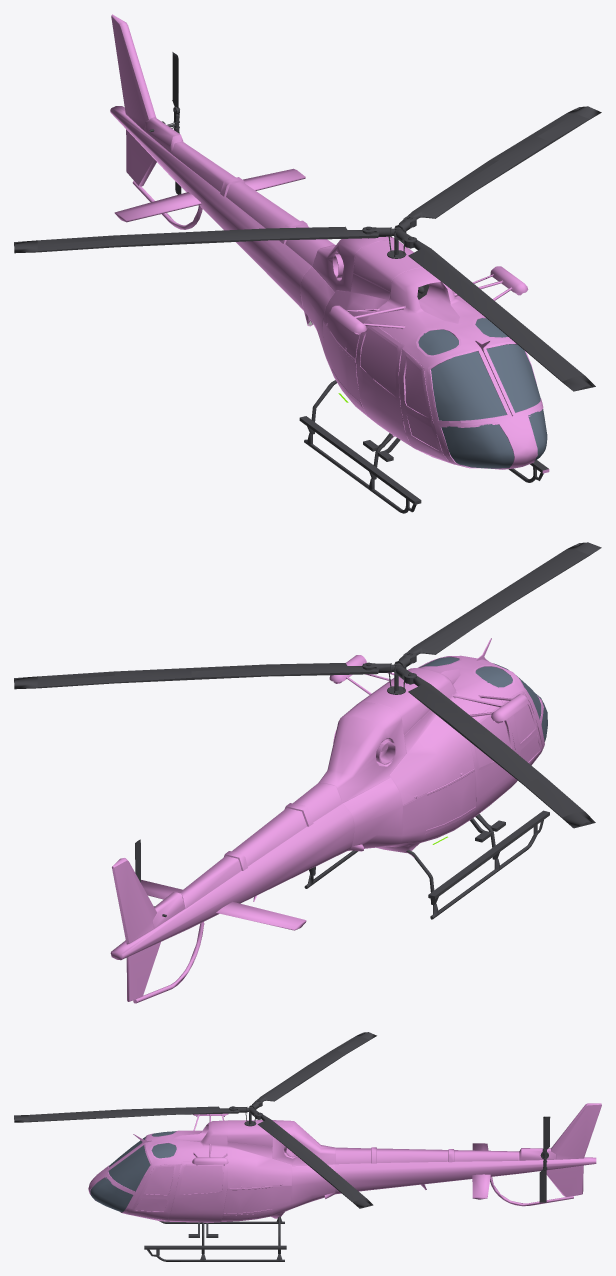
File: heli.glb
3 views of the same model, one above another, from view 1: azimuth 30°, elevation 25°; view 2: azimuth 150°, elevation 25°; view 3: azimuth 270°, elevation 25° (orthographic). The views are drawn at different scales.
Parts seen in each view (by area): view 1: body, rotor; view 2: body, rotor; view 3: body, rotor, tail.
Part boxes in pixels (x1=…): body: x1=110, y1=14, x2=549, y2=513; rotor: x1=14, y1=106, x2=601, y2=391; body: x1=110, y1=638, x2=549, y2=1003; rotor: x1=14, y1=542, x2=601, y2=828; body: x1=88, y1=1103, x2=601, y2=1261; rotor: x1=14, y1=1032, x2=376, y2=1208; tail: x1=539, y1=1116, x2=550, y2=1202.
Bounding box in the file's own units: 12.86 × 4.74 × 18.12.
